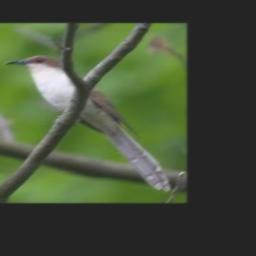Cuckoo: (5, 56, 171, 191)
